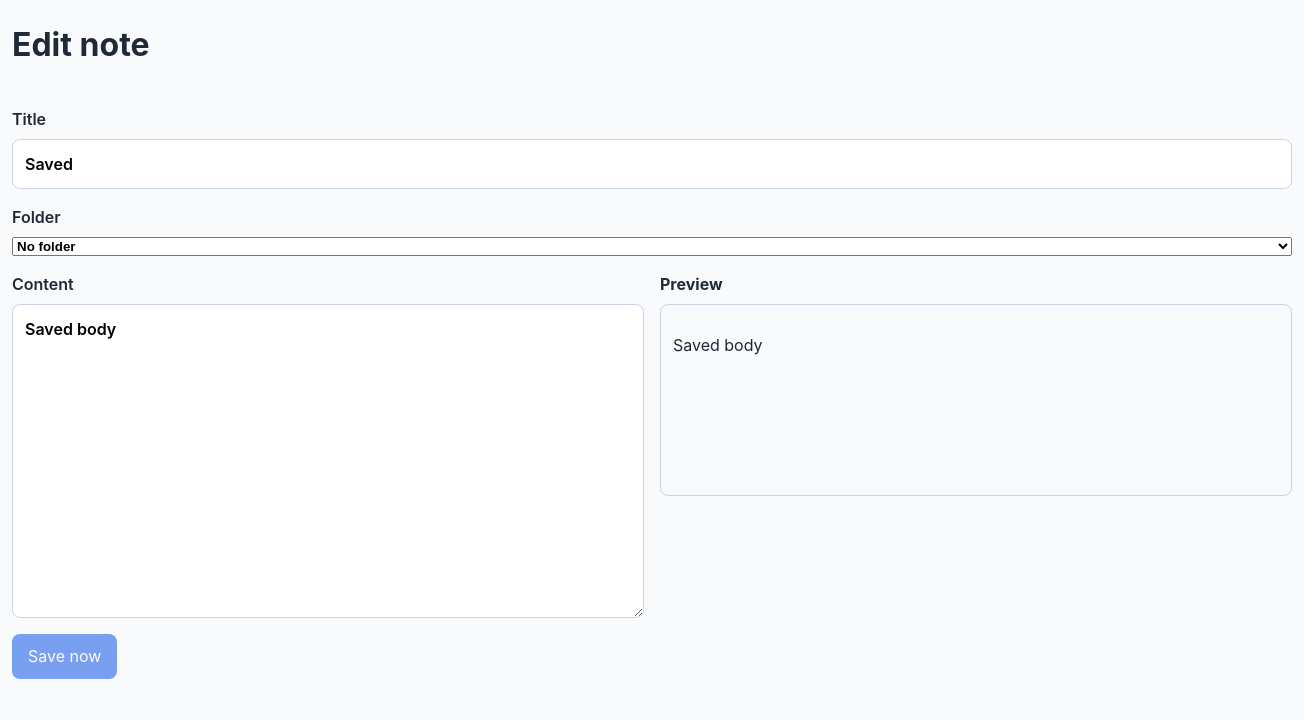
it: NoteEditor › disables save until the form is dirty in edit mode
Expected: the button "Save now" is disabled, [12,634,117,679]
Type "!" into the field showing "Saved" at {"x": 652, "y": 164}, box [12,139,1292,189]
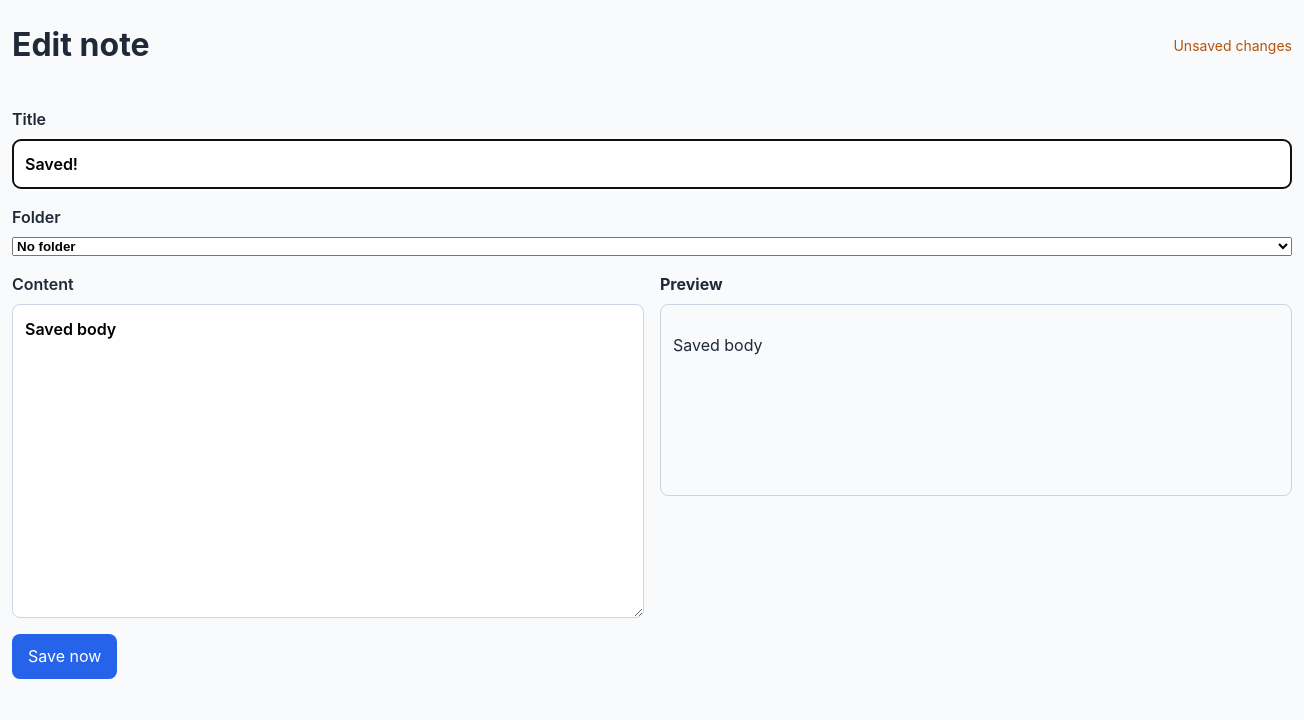
Expected: the button "Save now" is enabled, [12,634,117,679]
